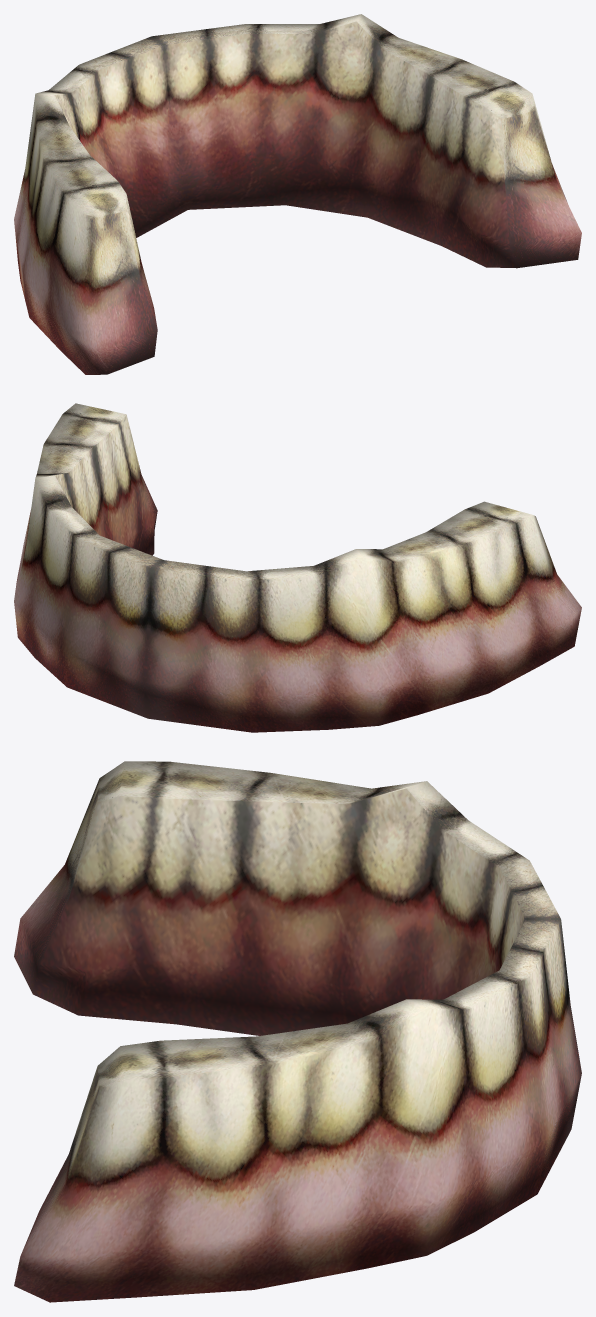
Rendered from false_teeth.DAE.
3 views of the same model, one above another, from view 1: azimuth 30°, elevation 25°; view 2: azimuth 150°, elevation 25°; view 3: azimuth 270°, elevation 25° (orthographic). The views are drawn at different scales.
Parts seen in each view (by area): view 1: Box001; view 2: Box001; view 3: Box001.
Boxes of the visible parts, left/top/right/bottom form: Box001: left=14, top=14, right=581, bottom=374; Box001: left=14, top=403, right=581, bottom=732; Box001: left=14, top=761, right=581, bottom=1302.
Bounding box in the file's own units: 0.1129 × 0.0365 × 0.0775.
